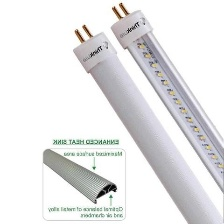light_bulb: (69, 14, 223, 224), (110, 1, 224, 209)
